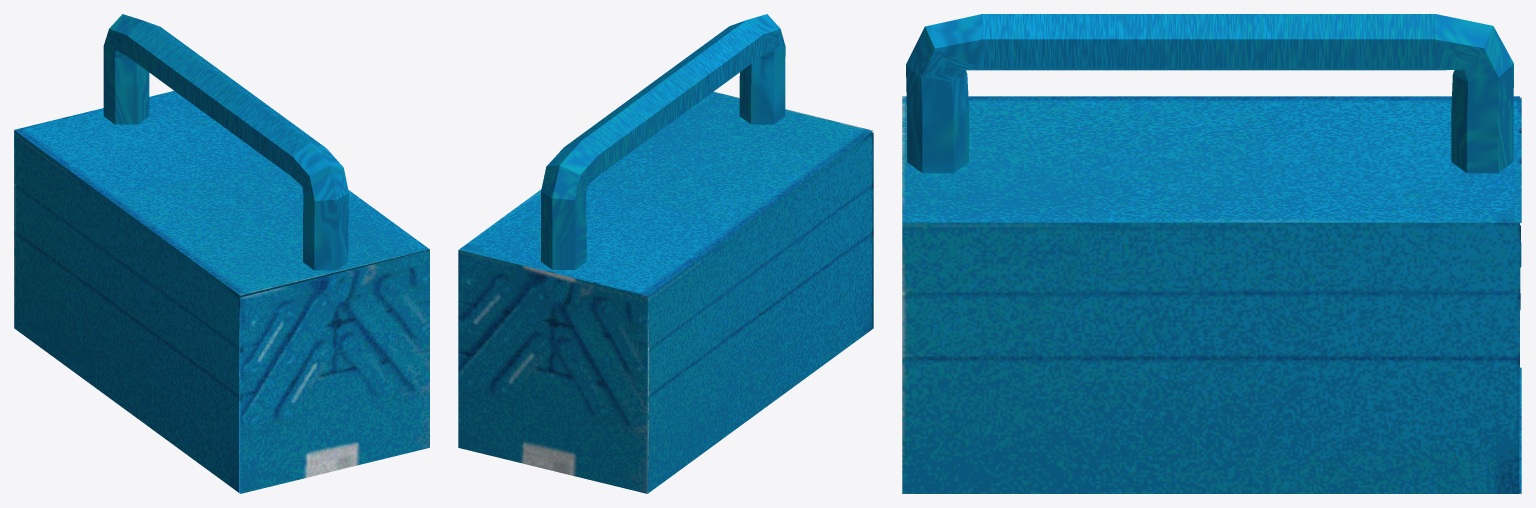
Rendered from CaixaDeFerramentas.fbx.
The picture shows the model from 3 angles, left to right: view 1: azimuth 30°, elevation 25°; view 2: azimuth 150°, elevation 25°; view 3: azimuth 270°, elevation 25°; orthographic projection. The views are drawn at different scales.
Parts seen in each view (by area): view 1: Cylinder.001; view 2: Cylinder.001; view 3: Cylinder.001.
Part boxes in pixels (x1=…): Cylinder.001: x1=14, y1=14, x2=429, y2=493; Cylinder.001: x1=458, y1=14, x2=873, y2=493; Cylinder.001: x1=902, y1=14, x2=1521, y2=493.
Bounding box in the file's own units: 38.03 × 58.78 × 78.72.
1 material, 1 textured.
